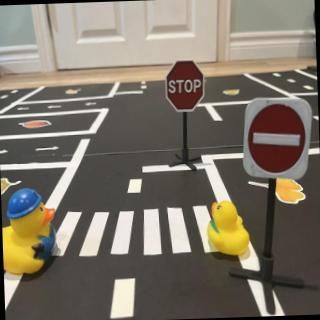duck_regular: (206, 201, 253, 259)
duck_specialty: (3, 187, 61, 279)
road_crosswalk: (48, 201, 227, 263)
road_oneway: (36, 145, 62, 155), (47, 104, 65, 112), (16, 107, 32, 114), (1, 148, 10, 158), (84, 103, 102, 108)
sign_noentry: (241, 97, 316, 183)
sign_stop: (166, 60, 206, 114)
